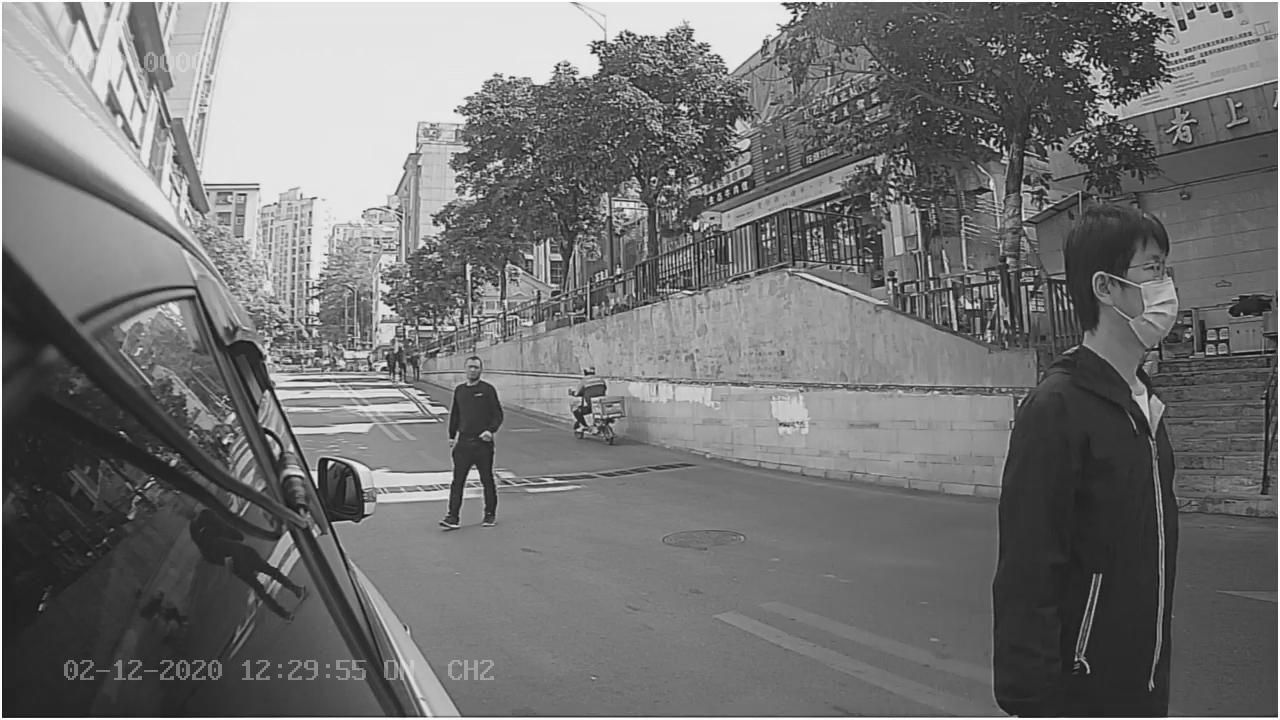person: (984, 199, 1191, 581), (421, 353, 516, 543)
